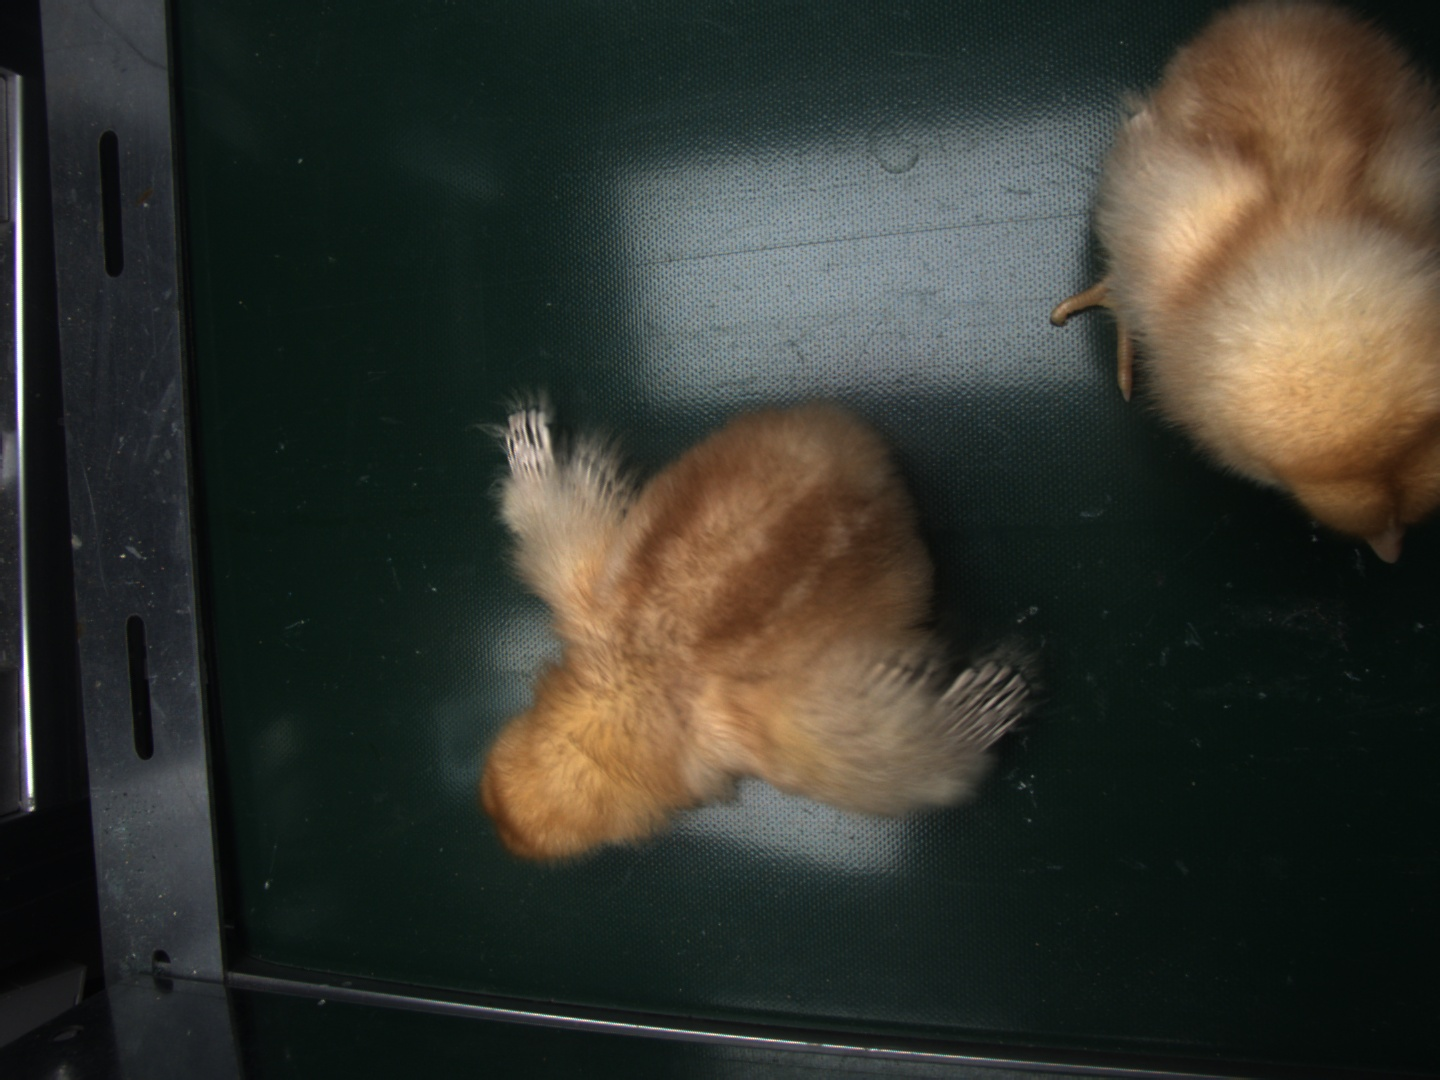female: (941, 661, 1027, 744)
